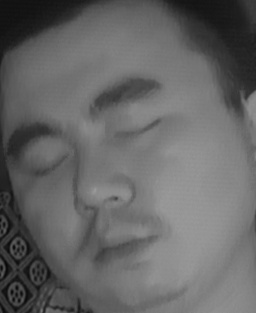blink: (30, 142, 73, 181), (115, 110, 161, 144)
mouth: (82, 218, 162, 272)
